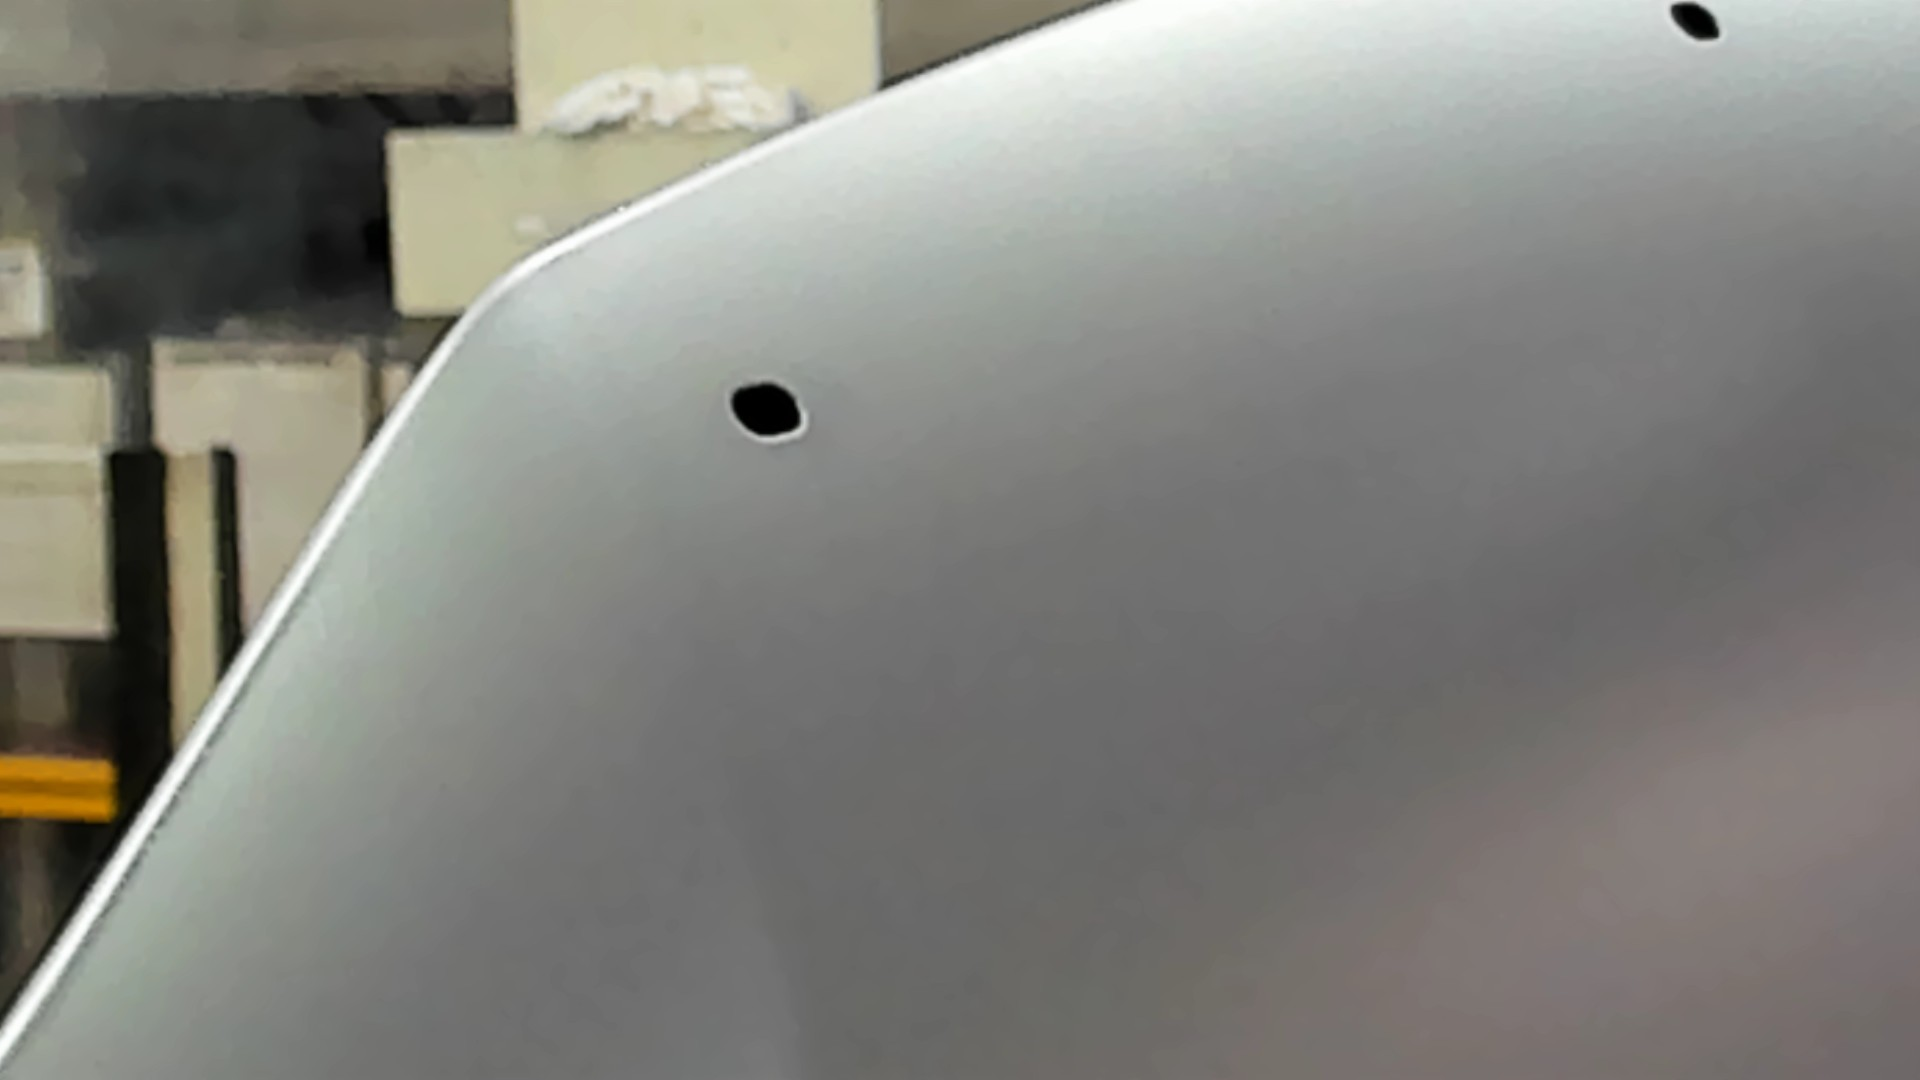amorfo: (724, 377, 814, 447), (1664, 1, 1727, 46)
capo: (914, 127, 1920, 1080)
